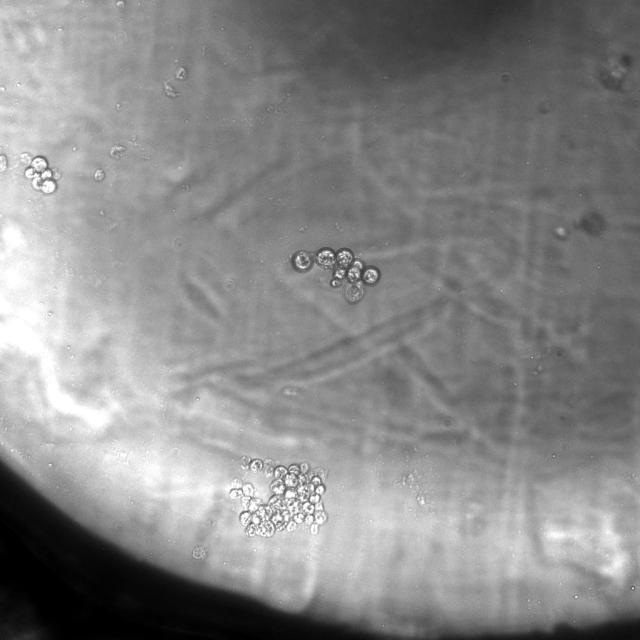organoid: (228, 455, 329, 538), (292, 247, 381, 303), (19, 153, 61, 194), (164, 82, 179, 98), (192, 545, 208, 559), (174, 67, 187, 80), (0, 153, 8, 172), (94, 168, 105, 181)
